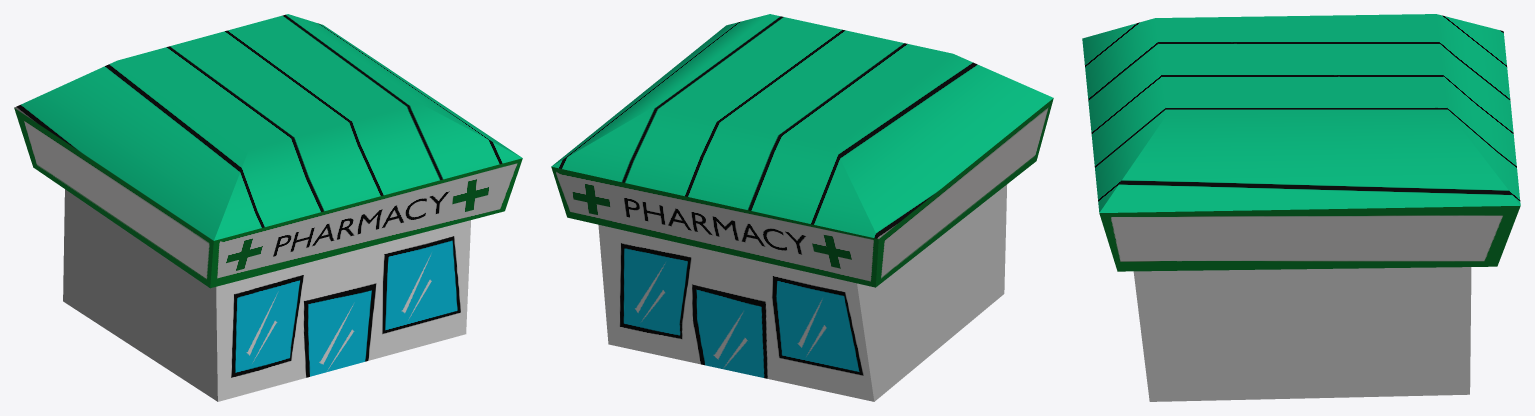
Rendered from Pharmacy.fbx.
3 renders of one model, left to right at view 1: azimuth 30°, elevation 25°; view 2: azimuth 150°, elevation 25°; view 3: azimuth 270°, elevation 25°, orthographic. The views are drawn at different scales.
Visible parts, largest first — view 1: polySurface3; view 2: polySurface3; view 3: polySurface3.
Boxes of the visible parts, x1,y1,x2,y2 form: polySurface3: (14, 14, 522, 401); polySurface3: (551, 14, 1053, 401); polySurface3: (1082, 14, 1520, 401).
Bounding box in the file's own units: 23.85 × 16.22 × 24.29.
